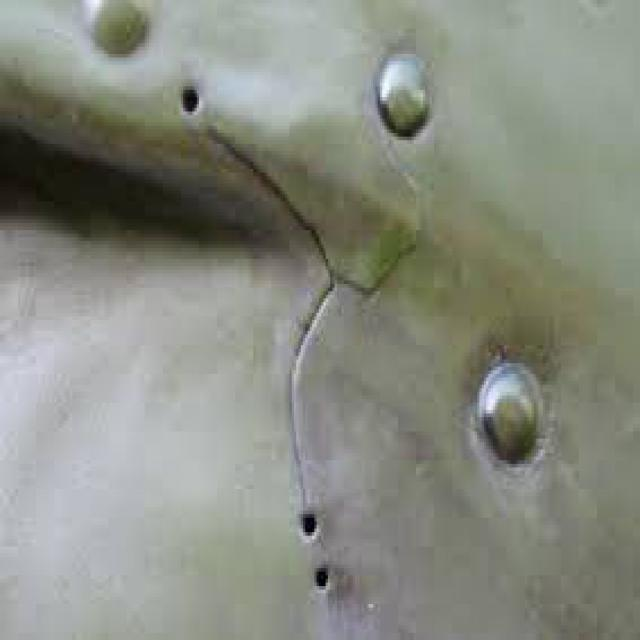crack: (207, 120, 413, 519)
